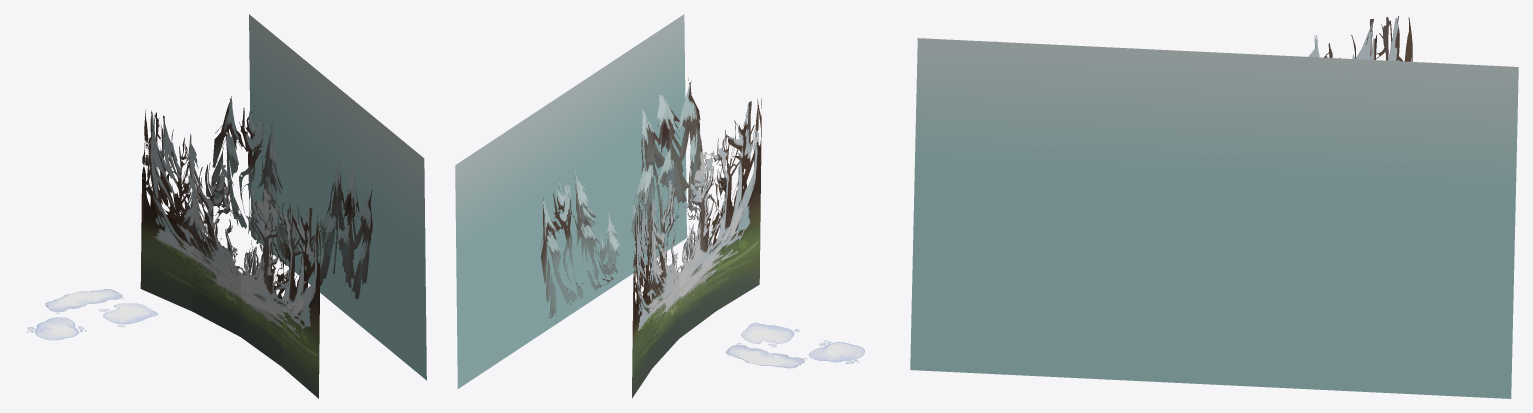
File: WinterDecorationBackground.fbx
3 renders of one model, left to right at view 1: azimuth 30°, elevation 25°; view 2: azimuth 150°, elevation 25°; view 3: azimuth 270°, elevation 25°, orthographic. The views are drawn at different scales.
Parts seen in each view (by area): view 1: WinterSky, WinterFront, WinterBack, winter1C, Winter2C, Winter3C; view 2: WinterSky, WinterFront, WinterBack, winter1C, Winter3C, Winter2C; view 3: WinterSky, WinterFront.
Part boxes in pixels (left/top/right/bottom): WinterSky: left=249, top=14, right=426, bottom=380; WinterFront: left=140, top=110, right=320, bottom=398; WinterBack: left=211, top=96, right=372, bottom=299; winter1C: left=45, top=289, right=124, bottom=313; Winter2C: left=98, top=303, right=157, bottom=327; Winter3C: left=27, top=317, right=86, bottom=340; WinterSky: left=455, top=14, right=686, bottom=388; WinterFront: left=632, top=98, right=761, bottom=398; WinterBack: left=540, top=78, right=704, bottom=323; winter1C: left=725, top=343, right=807, bottom=368; Winter3C: left=808, top=340, right=864, bottom=363; Winter2C: left=741, top=322, right=799, bottom=347; WinterSky: left=910, top=38, right=1518, bottom=398; WinterFront: left=995, top=16, right=1412, bottom=61.
Bounding box in the file's own units: 4473 × 3269 × 5041.
Materials: 6 (6 with a texture image).
